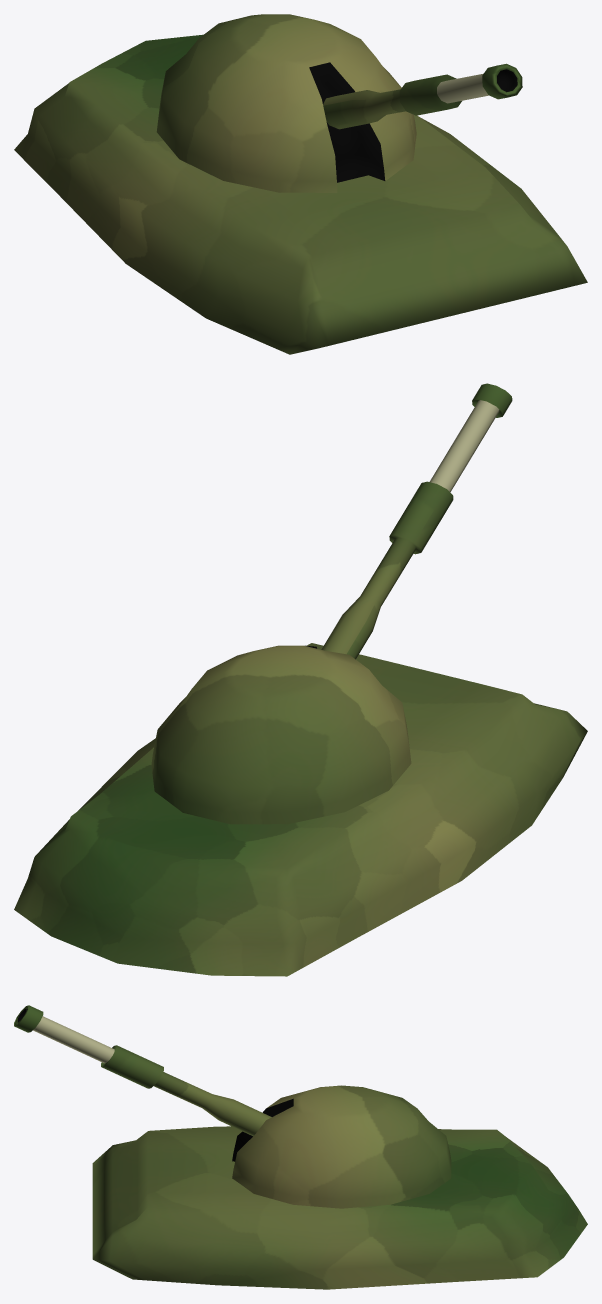
The model's file is Tank2.fbx.
The picture shows the model from 3 angles, top to bottom: view 1: azimuth 30°, elevation 25°; view 2: azimuth 150°, elevation 25°; view 3: azimuth 270°, elevation 25°; orthographic projection. The views are drawn at different scales.
Visible parts, largest first — view 1: pCube4, pSphere2, pCylinder1; view 2: pCube4, pSphere2, pCylinder1; view 3: pCube4, pSphere2, pCylinder1.
Part boxes in pixels (x1,y1,x2,y2): pCube4: (14, 34, 587, 354); pSphere2: (156, 14, 416, 192); pCylinder1: (323, 63, 522, 129); pCube4: (14, 643, 587, 976); pSphere2: (151, 645, 411, 824); pCylinder1: (321, 383, 512, 659); pCube4: (92, 1126, 587, 1289); pSphere2: (232, 1085, 451, 1208); pCylinder1: (14, 1005, 271, 1136).
Bounding box in the file's own units: 8.55 × 7.46 × 17.23.
